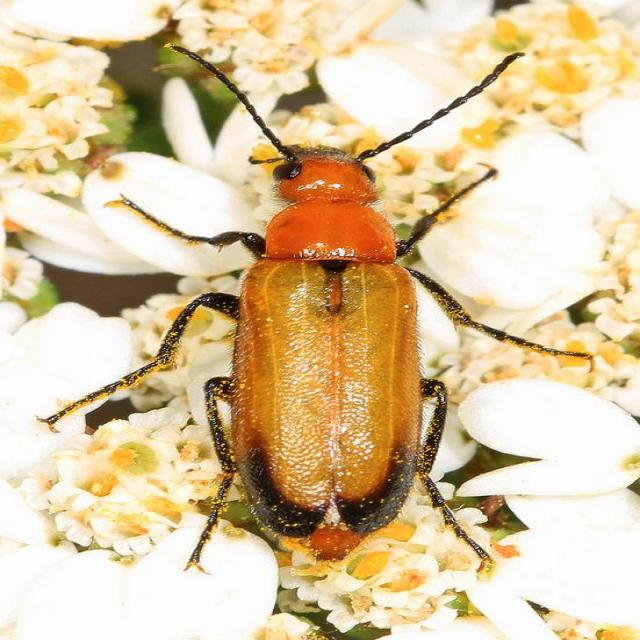BlisterBeetle-Adult-: (108, 36, 601, 582)
